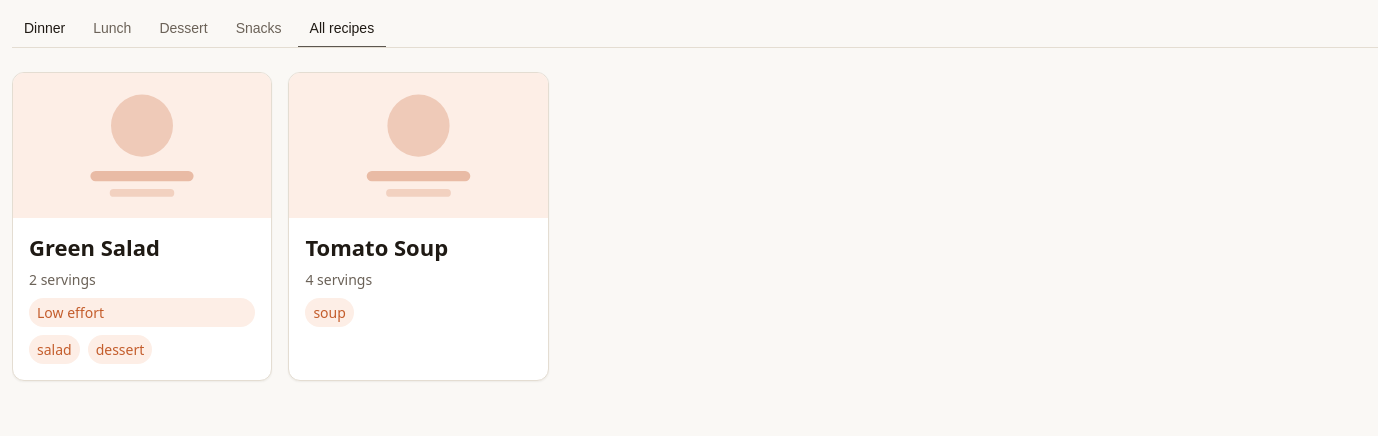
Test: HomePage › filters by meal type when a category tab is selected
Click the tab "Dinner" at (45, 30), box x1=12 y1=12 x2=77 y2=48
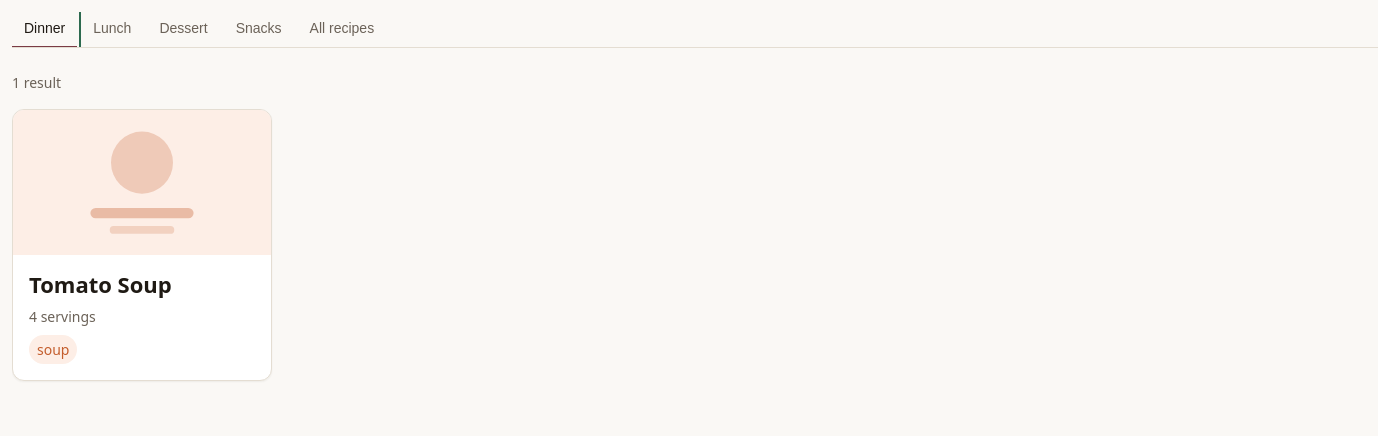
Check: the link "Tomato Soup 4 servings soup" is shown, box x1=13 y1=110 x2=271 y2=380
Check: the link "Green Salad" is gone
Click the tab "Dessert" at (184, 30), box x1=147 y1=12 x2=220 y2=48
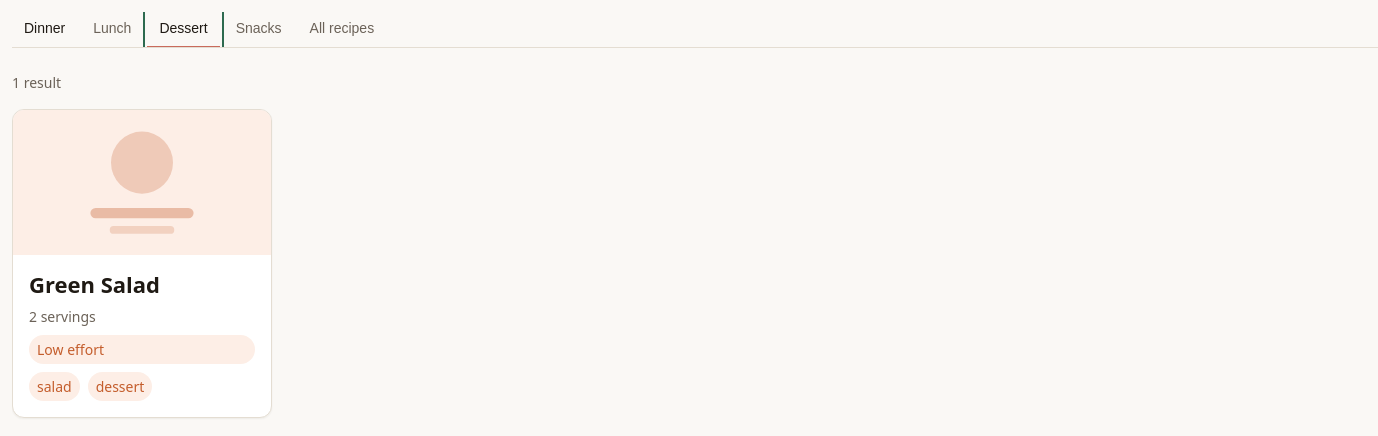
Check: the link "Green Salad 2 servings Low effort salad dessert" is shown, box x1=13 y1=110 x2=271 y2=417
Check: the link "Tomato Soup" is gone
